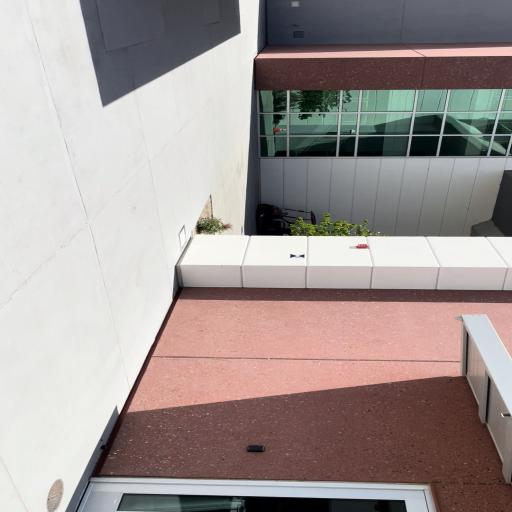target6: (290, 253, 304, 259)
